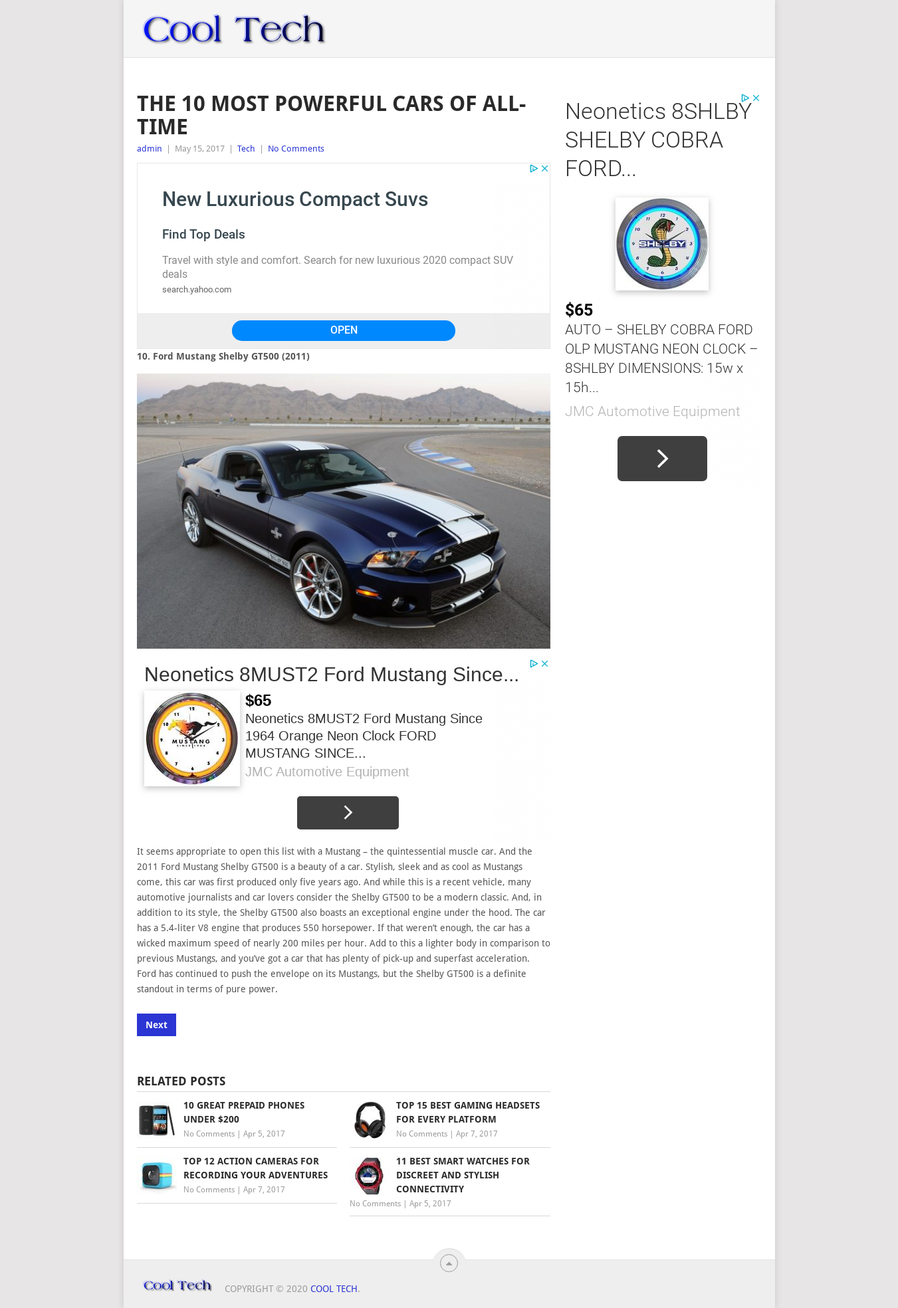fake_button: (587, 425, 753, 495), (229, 317, 469, 351), (281, 788, 407, 836)
